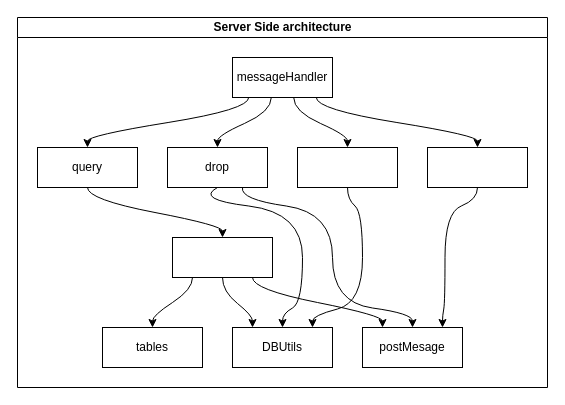
Image size: 565x405. Some labels were removed from this diagram. The shapes that lost their labels are listed below. From the top down, each one's box as (x1, y1, x2, y2) in pixels, then its label:
(296, 146, 398, 188): restore
(426, 146, 528, 188): backup
(172, 236, 272, 278): SQLParser
